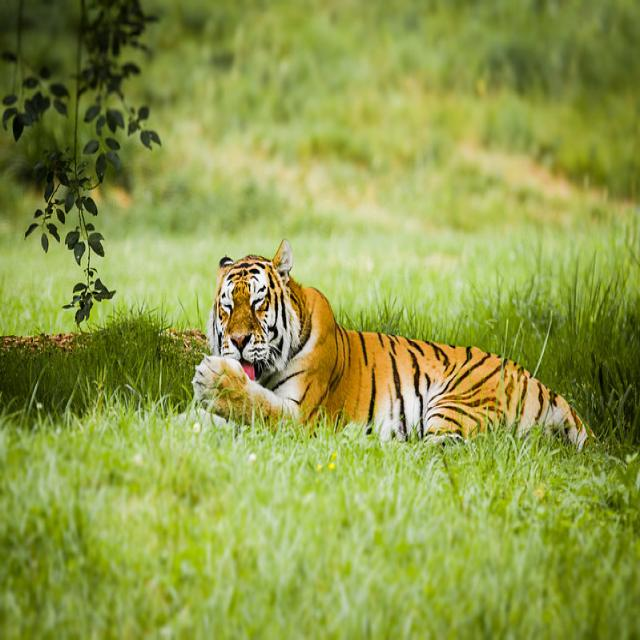Tiger: (191, 243, 588, 449)
